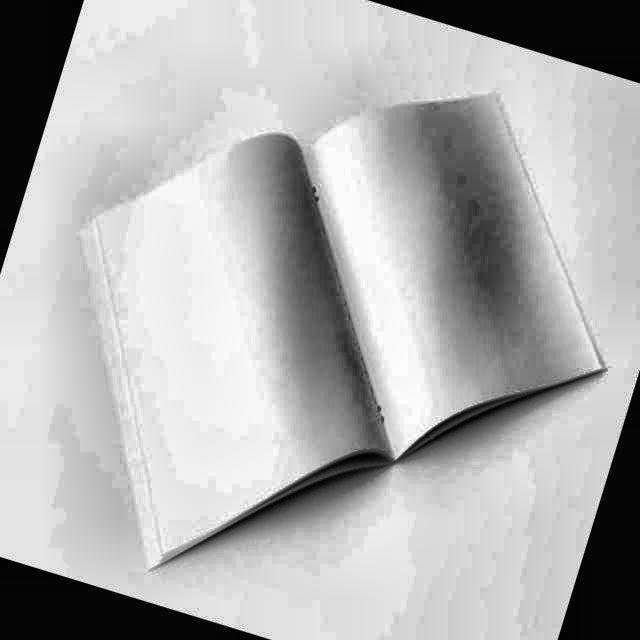cardboard: (84, 93, 608, 569)
